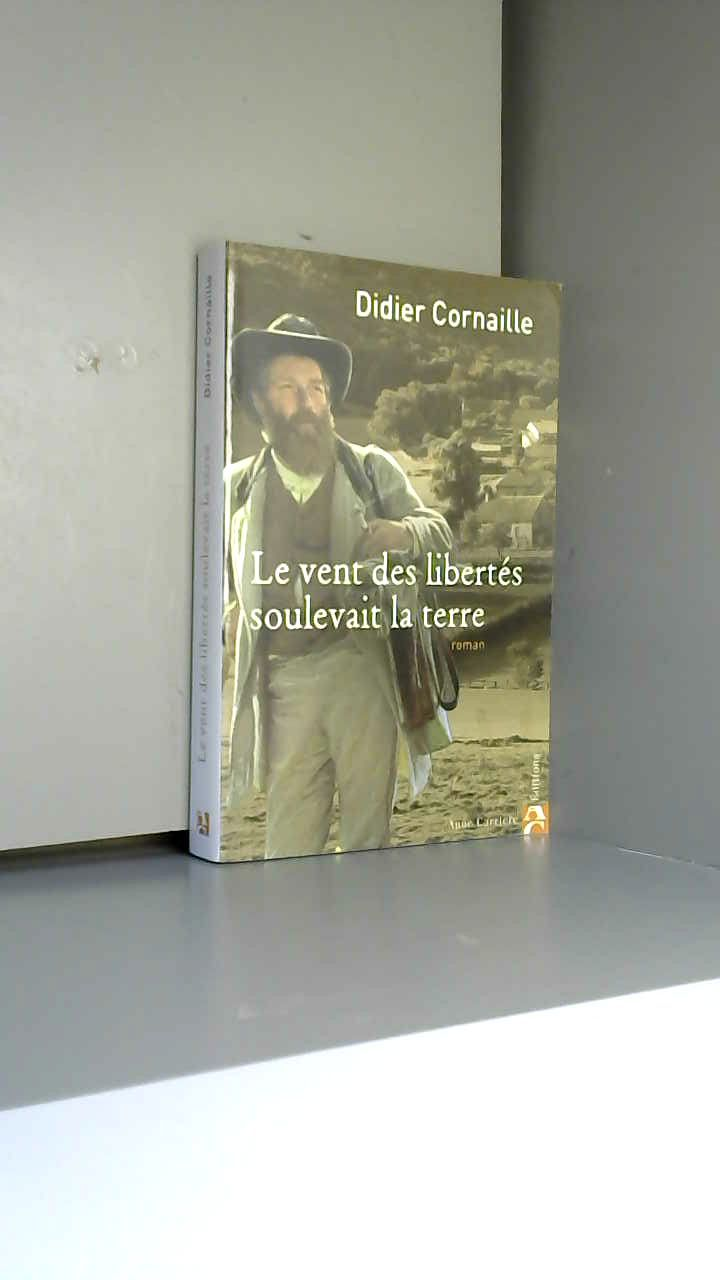book: (168, 202, 587, 900)
